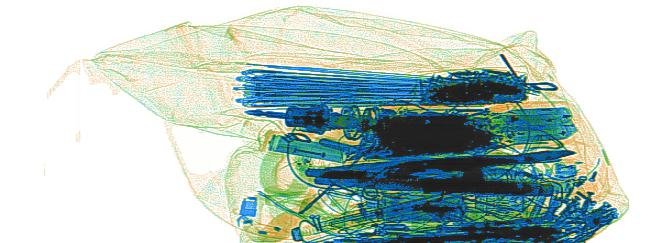battery: (500, 105, 576, 144), (267, 132, 350, 164), (378, 195, 468, 223)
